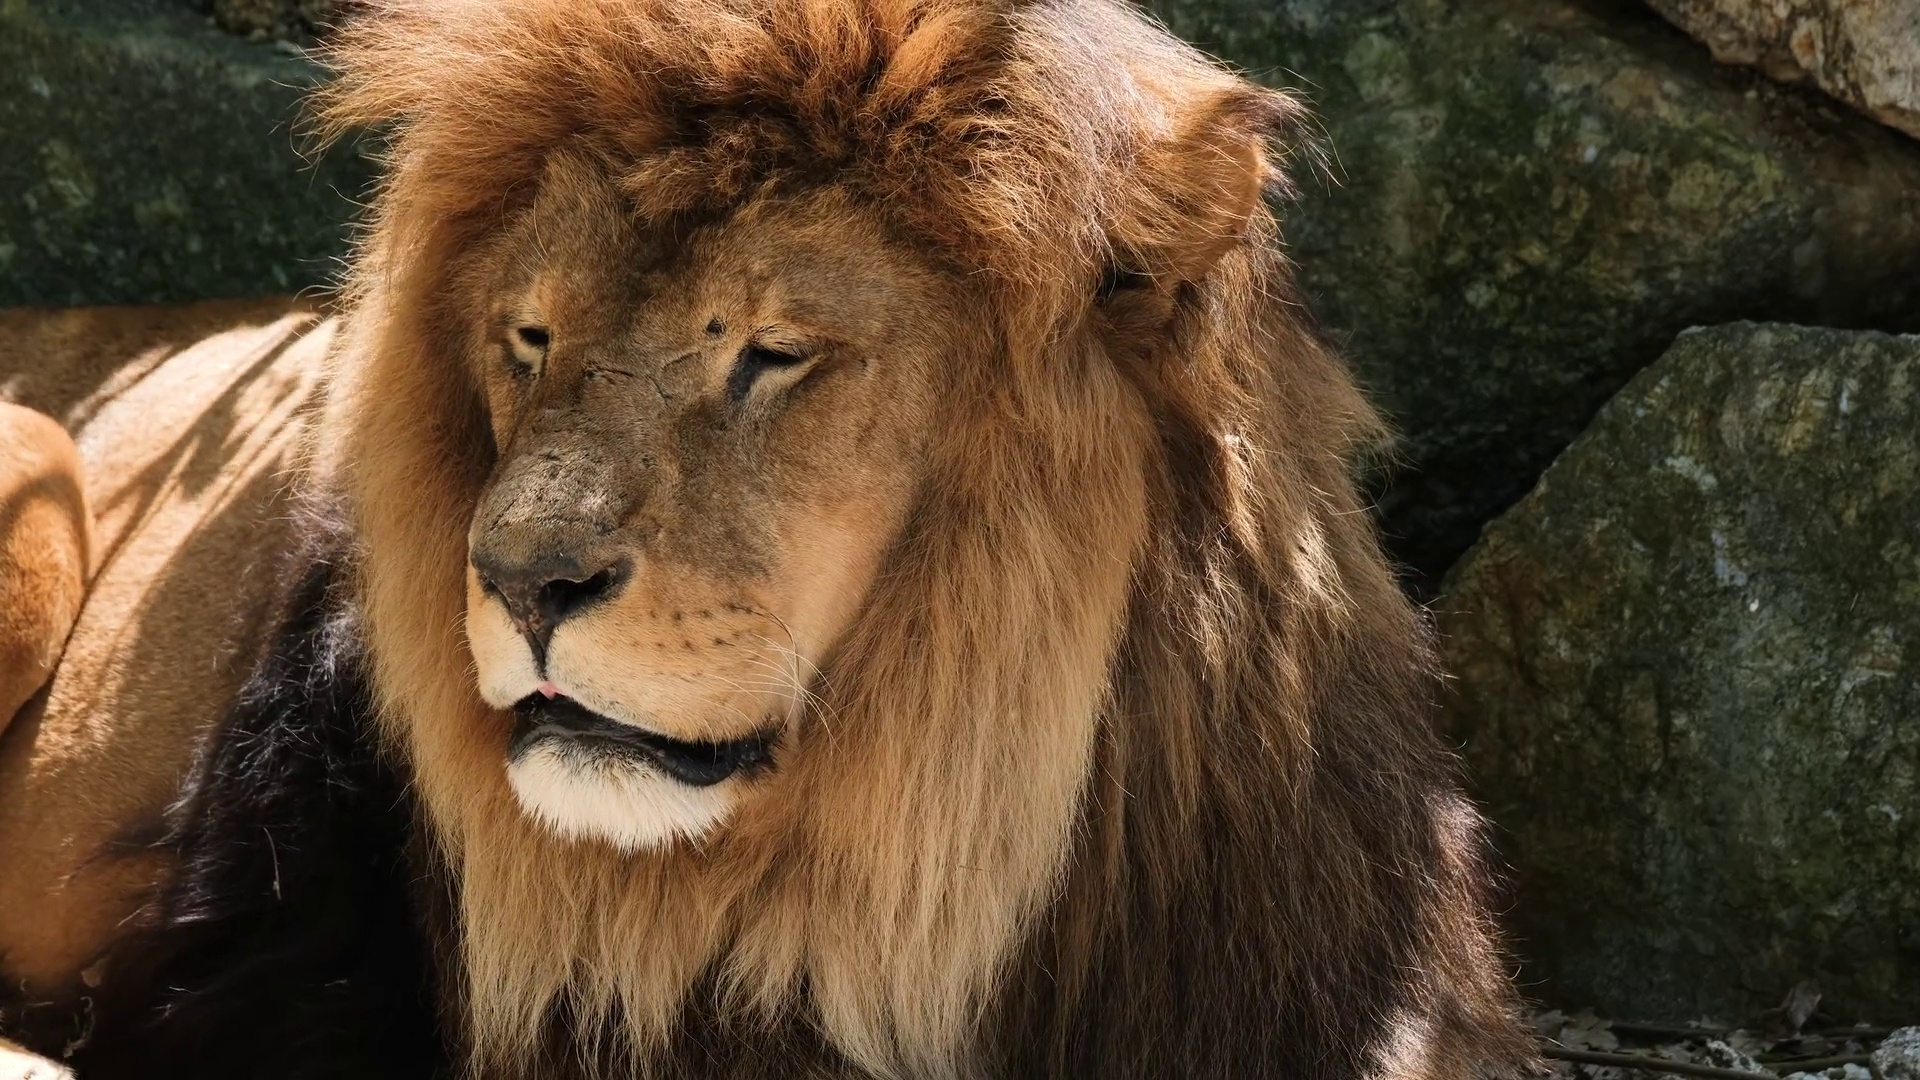Lion: (7, 4, 1543, 1080)
